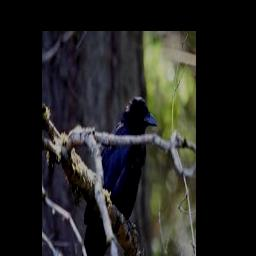Crow: (77, 96, 157, 256)
